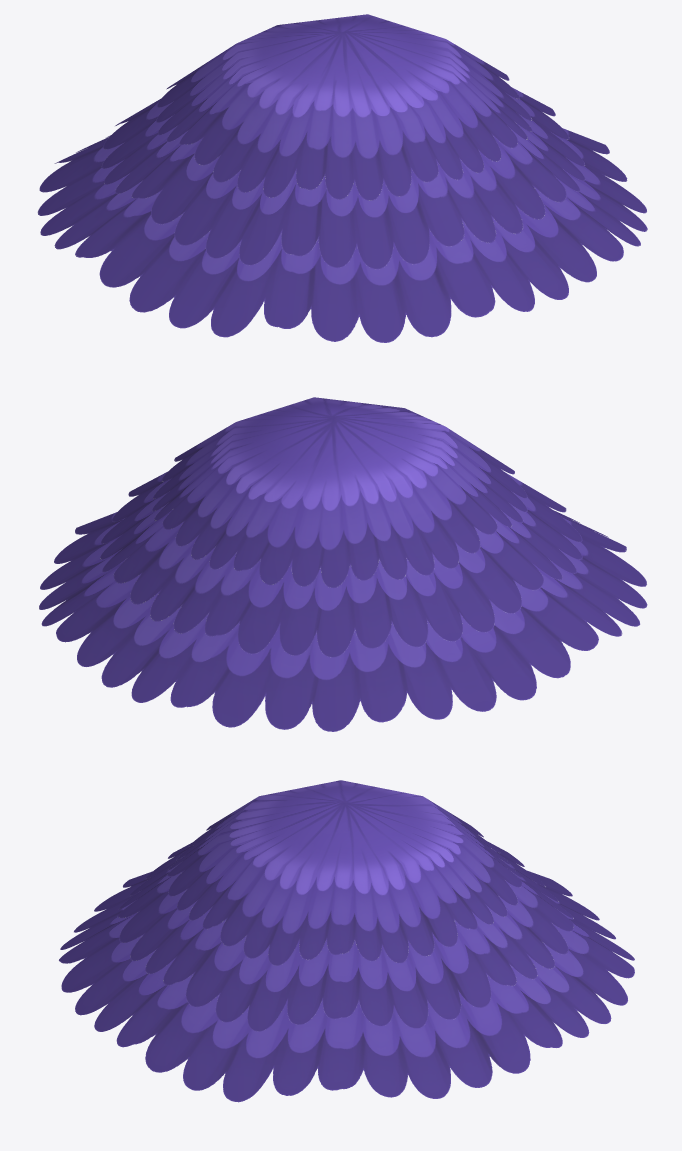
Rendered from Bush10.fbx.
3 views of the same model, one above another, from view 1: azimuth 30°, elevation 25°; view 2: azimuth 150°, elevation 25°; view 3: azimuth 270°, elevation 25° (orthographic). The views are drawn at different scales.
Parts seen in each view (by area): view 1: Circle.181, Circle.178, Circle.180; view 2: Circle.181, Circle.178, Circle.180; view 3: Circle.181, Circle.178, Circle.180.
Part boxes in pixels (bbox=[...]): Circle.181: bbox=[37, 128, 647, 342]; Circle.178: bbox=[156, 14, 532, 200]; Circle.180: bbox=[101, 87, 585, 269]; Circle.181: bbox=[39, 510, 647, 731]; Circle.178: bbox=[152, 397, 527, 588]; Circle.180: bbox=[100, 471, 582, 657]; Circle.181: bbox=[59, 870, 634, 1102]; Circle.178: bbox=[167, 780, 522, 965]; Circle.180: bbox=[117, 841, 573, 1031].
Bounding box in the file's own units: 14.2 × 5.33 × 13.7.
Materials: 2 (2 with a texture image).
